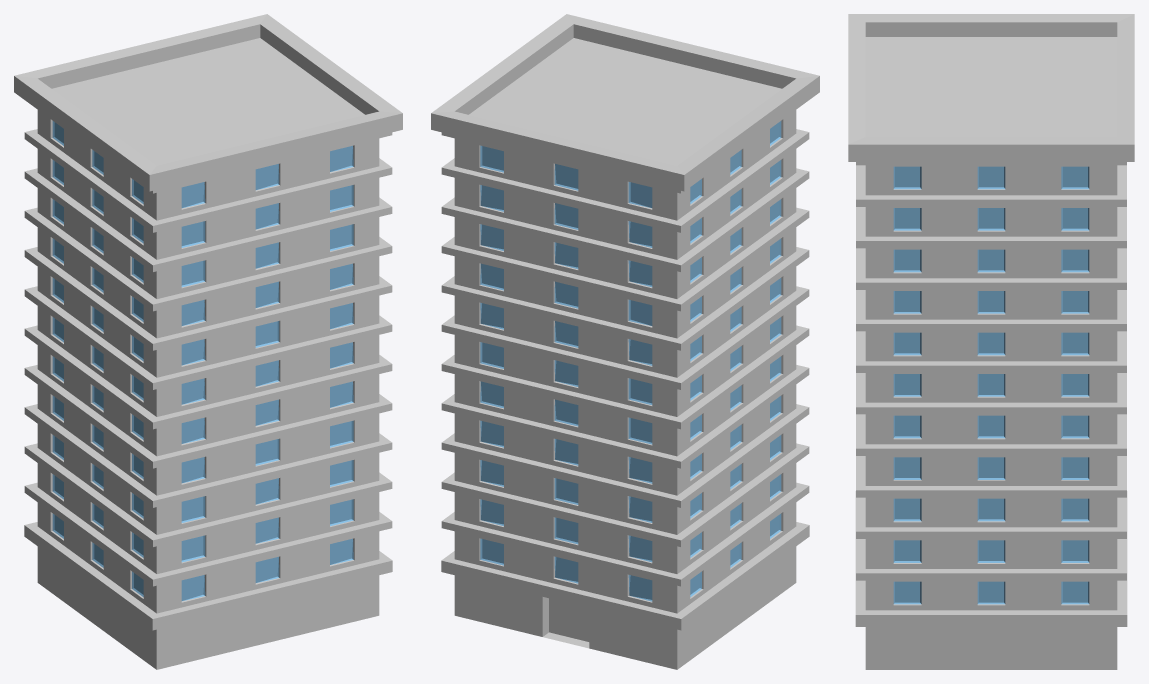
The model's file is White Short.fbx.
The picture shows the model from 3 angles, left to right: view 1: azimuth 30°, elevation 25°; view 2: azimuth 150°, elevation 25°; view 3: azimuth 270°, elevation 25°; orthographic projection. The views are drawn at different scales.
Visible parts, largest first — view 1: White Short; view 2: White Short; view 3: White Short.
Boxes of the visible parts, <box> form: White Short: <box>14,14,402,669</box>; White Short: <box>431,14,819,669</box>; White Short: <box>848,14,1134,669</box>.
Bounding box in the file's own units: 9.82 × 18.69 × 9.1.
